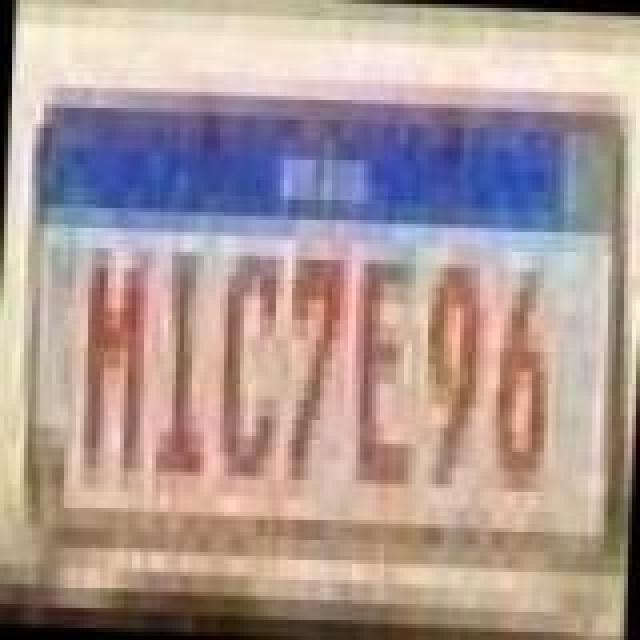6: (488, 246, 560, 498)
7: (282, 246, 350, 490)
9: (424, 242, 488, 498)
C: (218, 250, 286, 482)
E: (352, 240, 432, 492)
I: (150, 240, 218, 492)
M: (74, 250, 150, 494)
